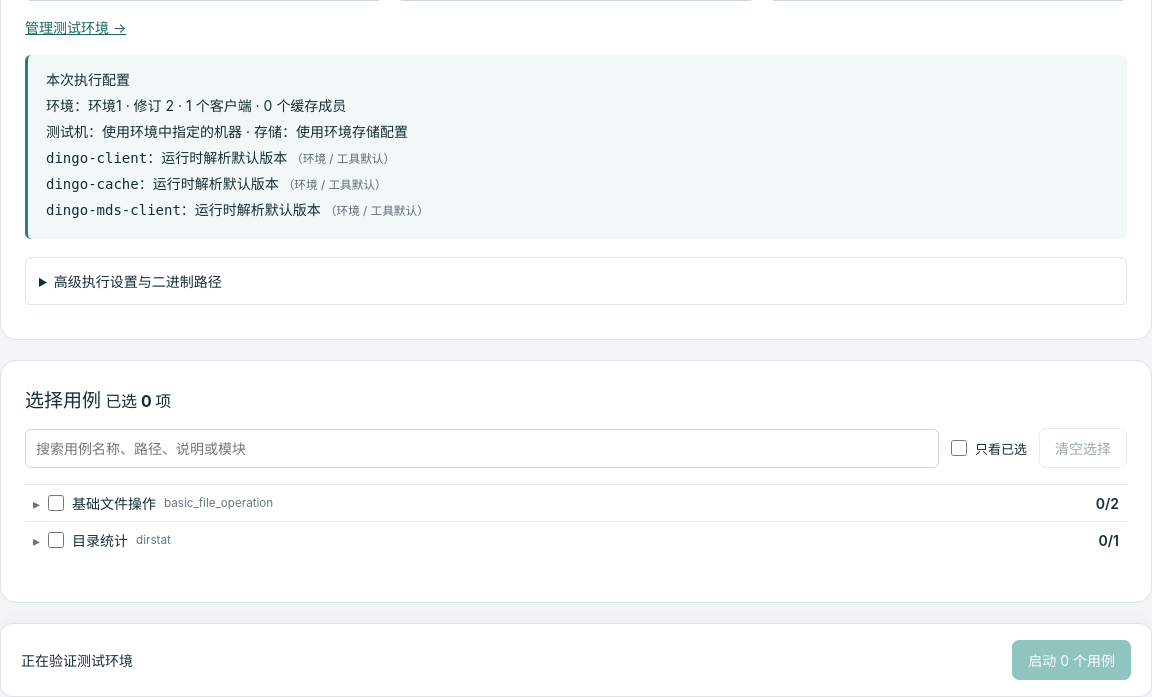
Test: case search preserves selected hidden cases and shows partial module selection
(page scrolled)
Click the checkbox named "选择 basic_file_operation 全部用例": coordinates (56, 503) x1=48 y1=495 x2=64 y2=511
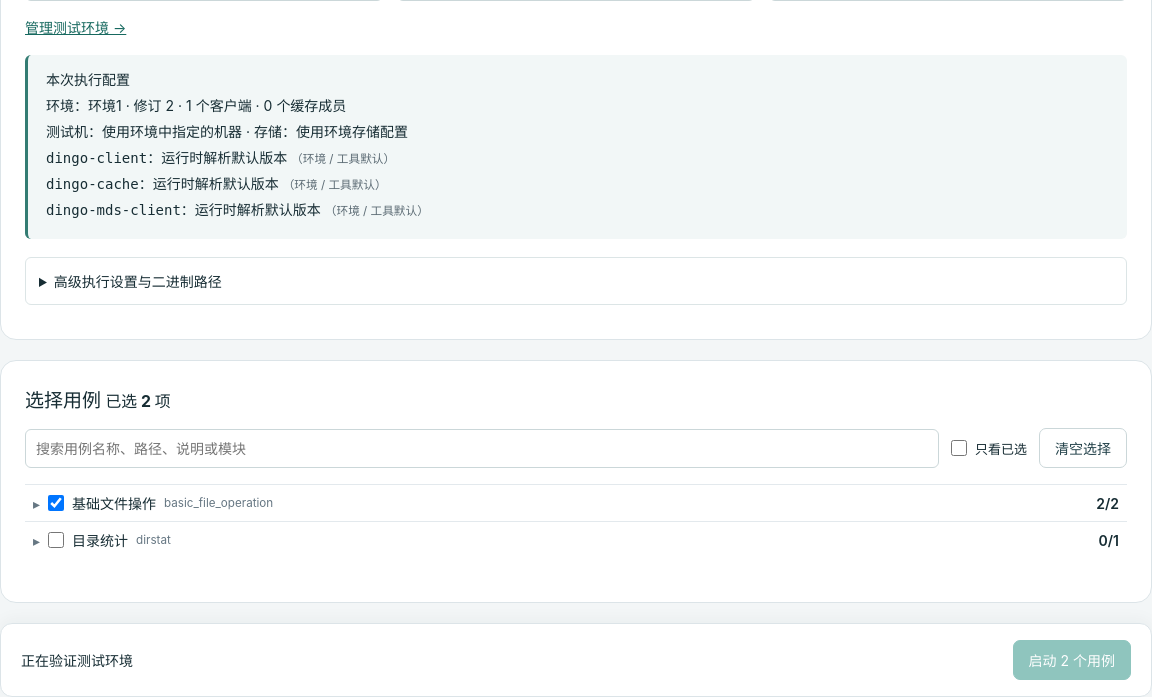
In the search field labelled "搜索用例": coordinates (482, 448) x1=25 y1=428 x2=939 y2=468, type "用例A"
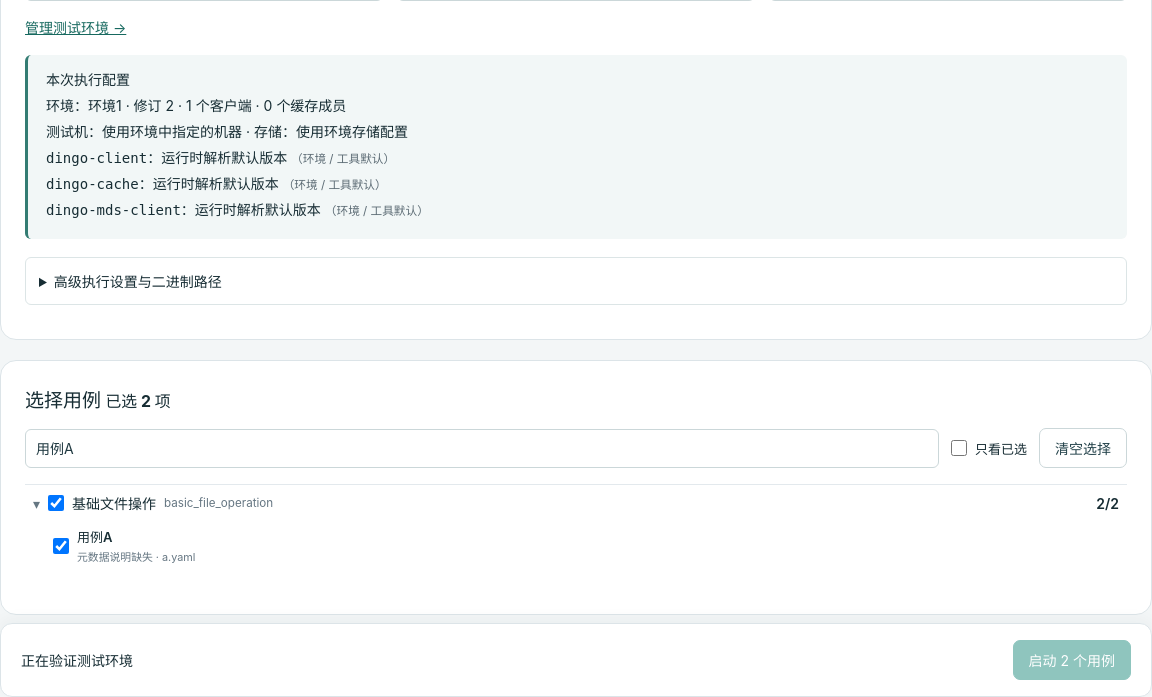
Click the checkbox labelled "用例A 元数据说明缺失 · a.yaml": coordinates (61, 546) x1=53 y1=538 x2=69 y2=554
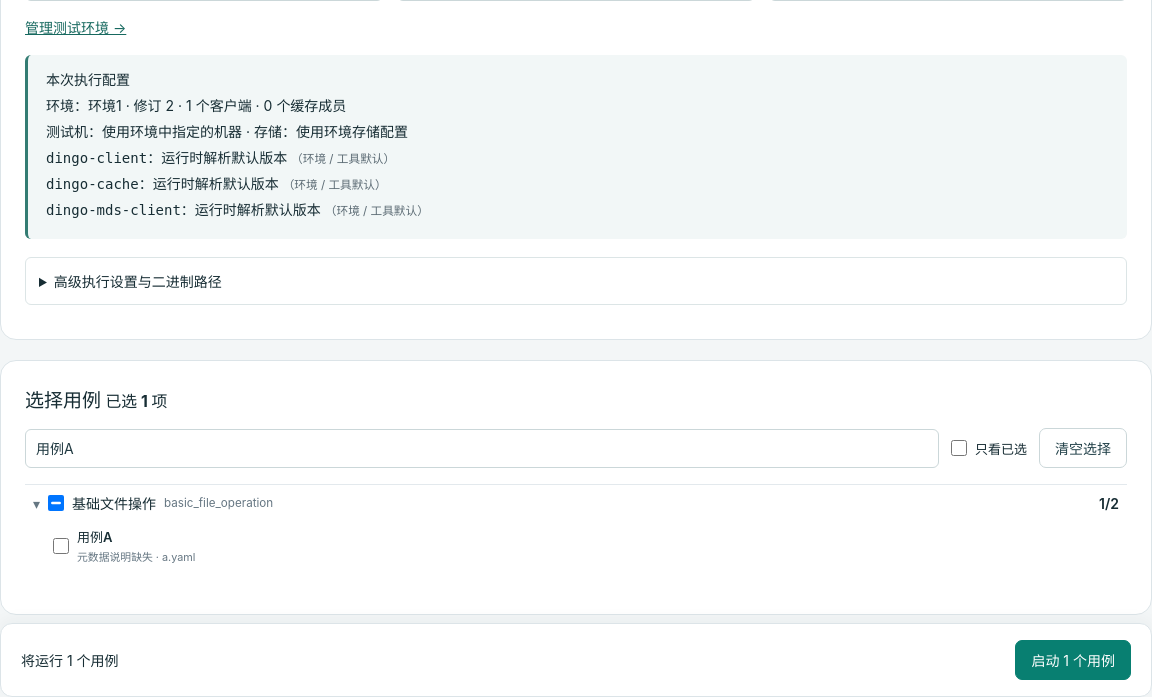
Check: the text "已选 1 项" is shown, box x1=106 y1=392 x2=167 y2=411
